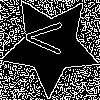V: (25, 20, 71, 56)
